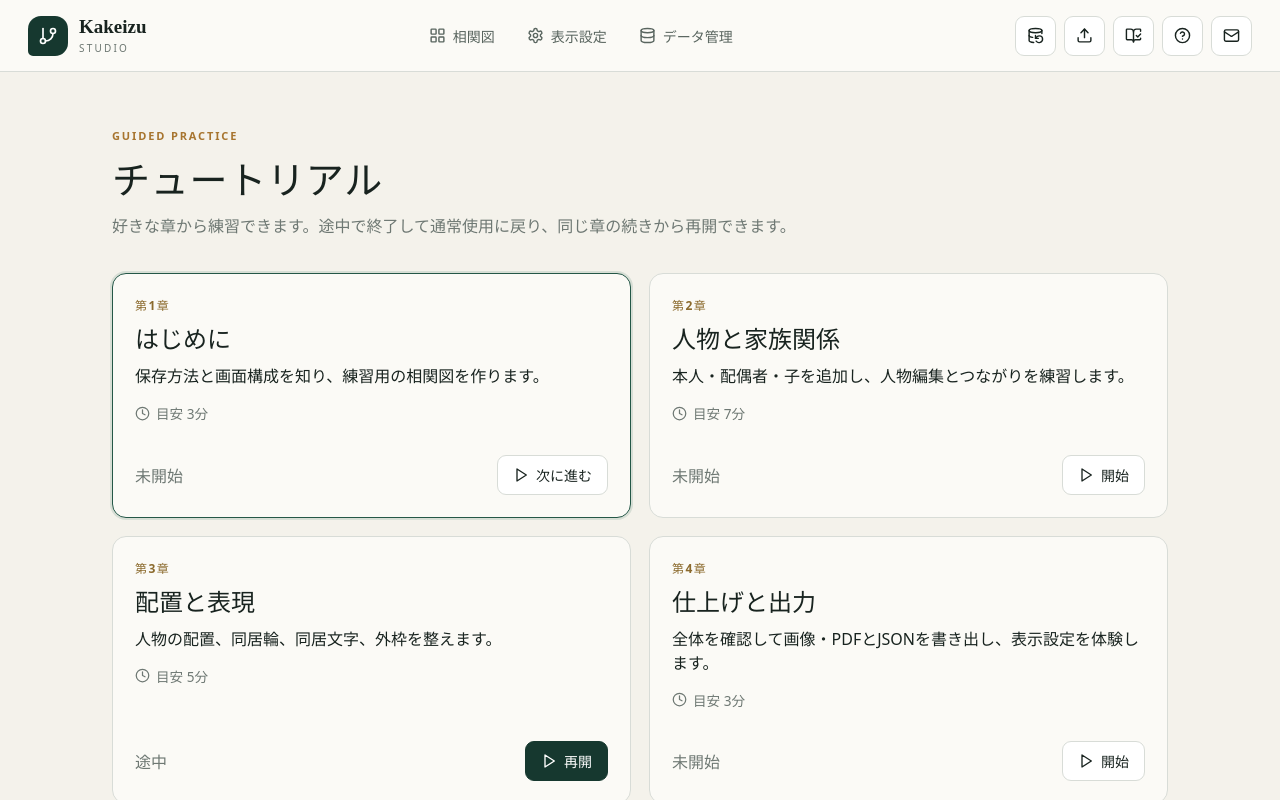
練習用相関図の読み込みエラー › {"status":500,"code":"DOCUMENT_CORRUPTED"} の場合は再作成せず進捗を保持する
Click the button "再開": (566, 761) [525,741,608,781]
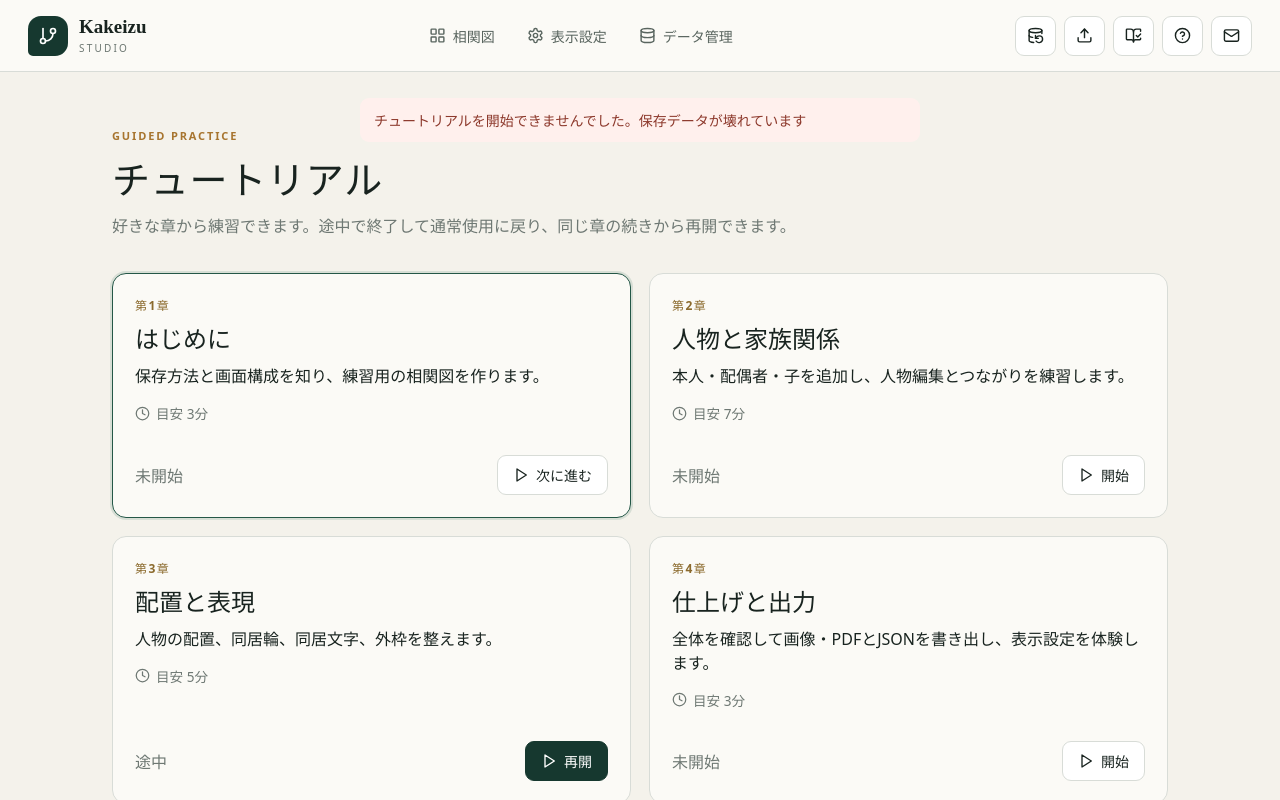
Expected: the text "チュートリアルを開始できませんでした。保存データが壊れています" is shown, [360,98,920,142]
